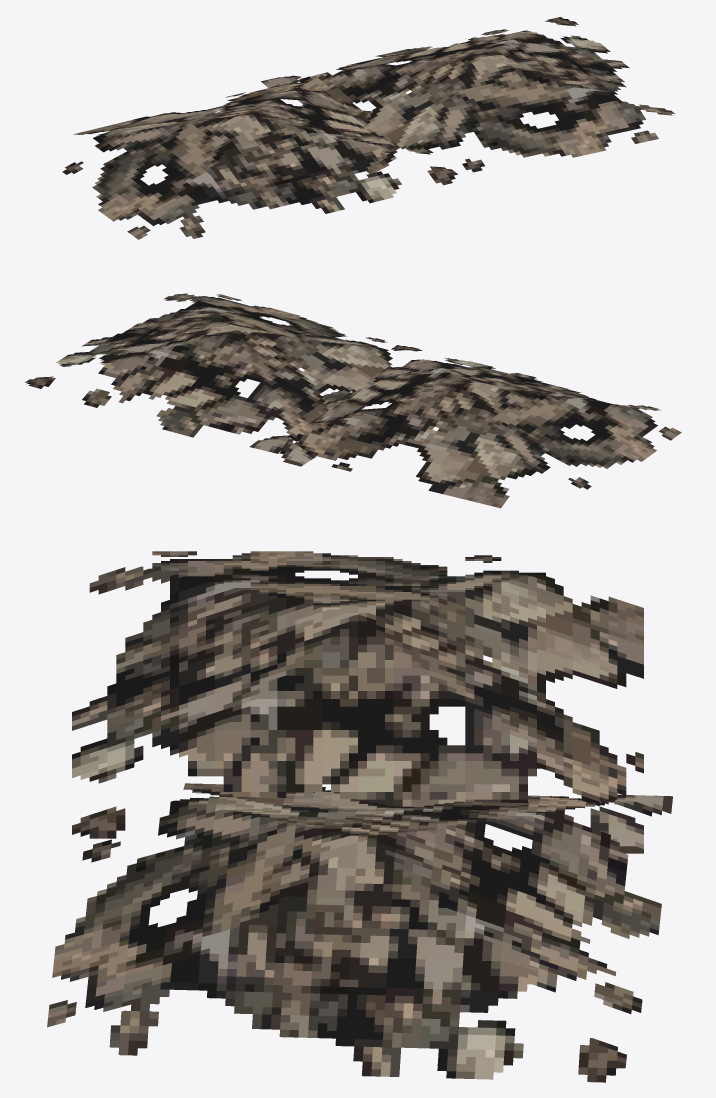
Rendered from Environment - Prop - Brick Wall 01 - PMWallBrk3_R.glb.
The picture shows the model from 3 angles, top to bottom: view 1: azimuth 30°, elevation 25°; view 2: azimuth 150°, elevation 25°; view 3: azimuth 270°, elevation 25°; orthographic projection. The views are drawn at different scales.
Parts seen in each view (by area): view 1: PMWALLBRK3_R; view 2: PMWALLBRK3_R; view 3: PMWALLBRK3_R.
Boxes of the visible parts, box(x1,y1,x2,y2) form: PMWALLBRK3_R: box(62, 17, 675, 239); PMWALLBRK3_R: box(25, 293, 681, 508); PMWALLBRK3_R: box(47, 551, 672, 1082).
Bounding box in the file's own units: 33.17 × 2.71 × 16.61.
Materials: 1 (1 with a texture image).
